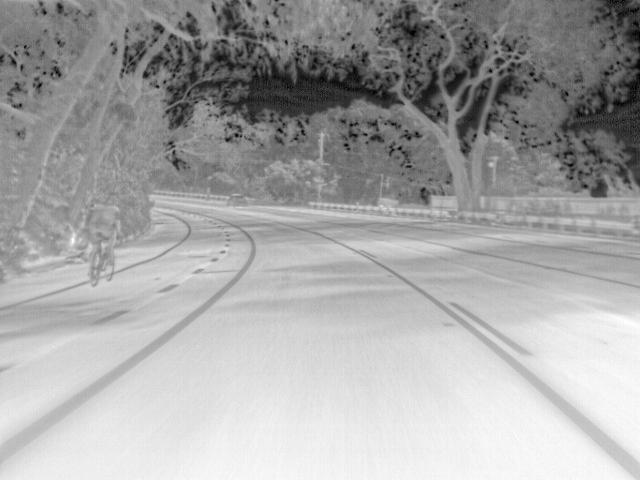car: (227, 192, 251, 207)
person: (85, 200, 124, 265)
